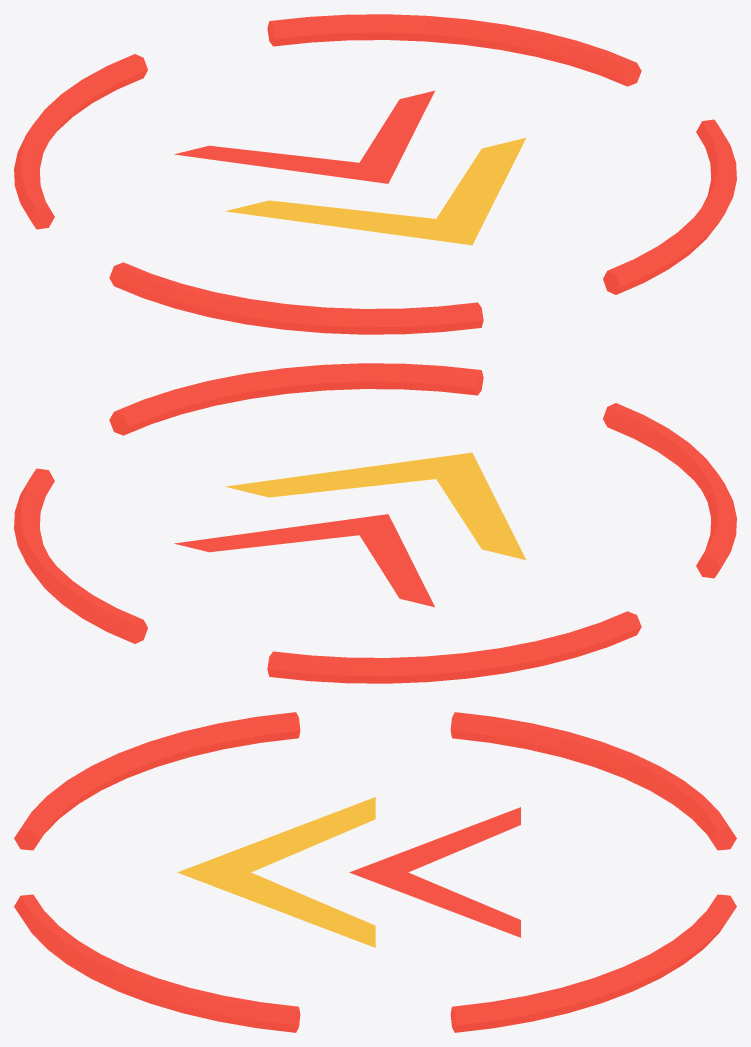
The model's file is rogue_warning.glb.
3 views of the same model, one above another, from view 1: azimuth 30°, elevation 25°; view 2: azimuth 150°, elevation 25°; view 3: azimuth 270°, elevation 25° (orthographic). The views are drawn at different scales.
Visible parts, largest first — view 1: rogue_warning; view 2: rogue_warning; view 3: rogue_warning.
Boxes of the visible parts, <box> form: rogue_warning: <box>14,14,736,334</box>; rogue_warning: <box>14,363,736,683</box>; rogue_warning: <box>14,712,736,1032</box>.
Size of the model in its own units: 2.73 by 0.0866 by 2.73.
